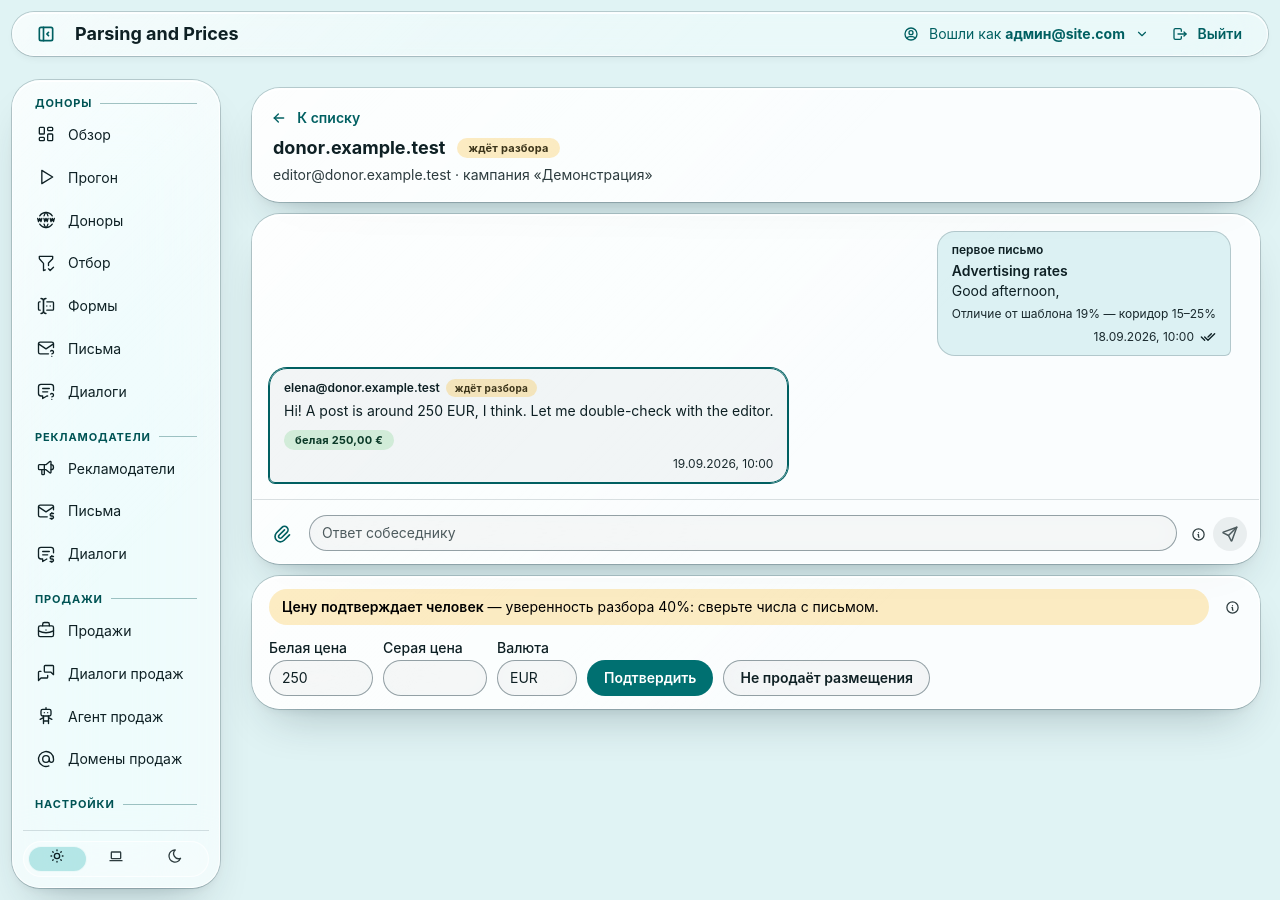
карточка переписки › подтверждение без цены говорит, что в карточку ничего не пошло
Expected: the heading "donor.example.test" is shown, top-left (273, 135), bottom-right (445, 161)
Clear the field labelled "Белая цена". click: (321, 678)
box: top-left (269, 660), bottom-right (373, 696)
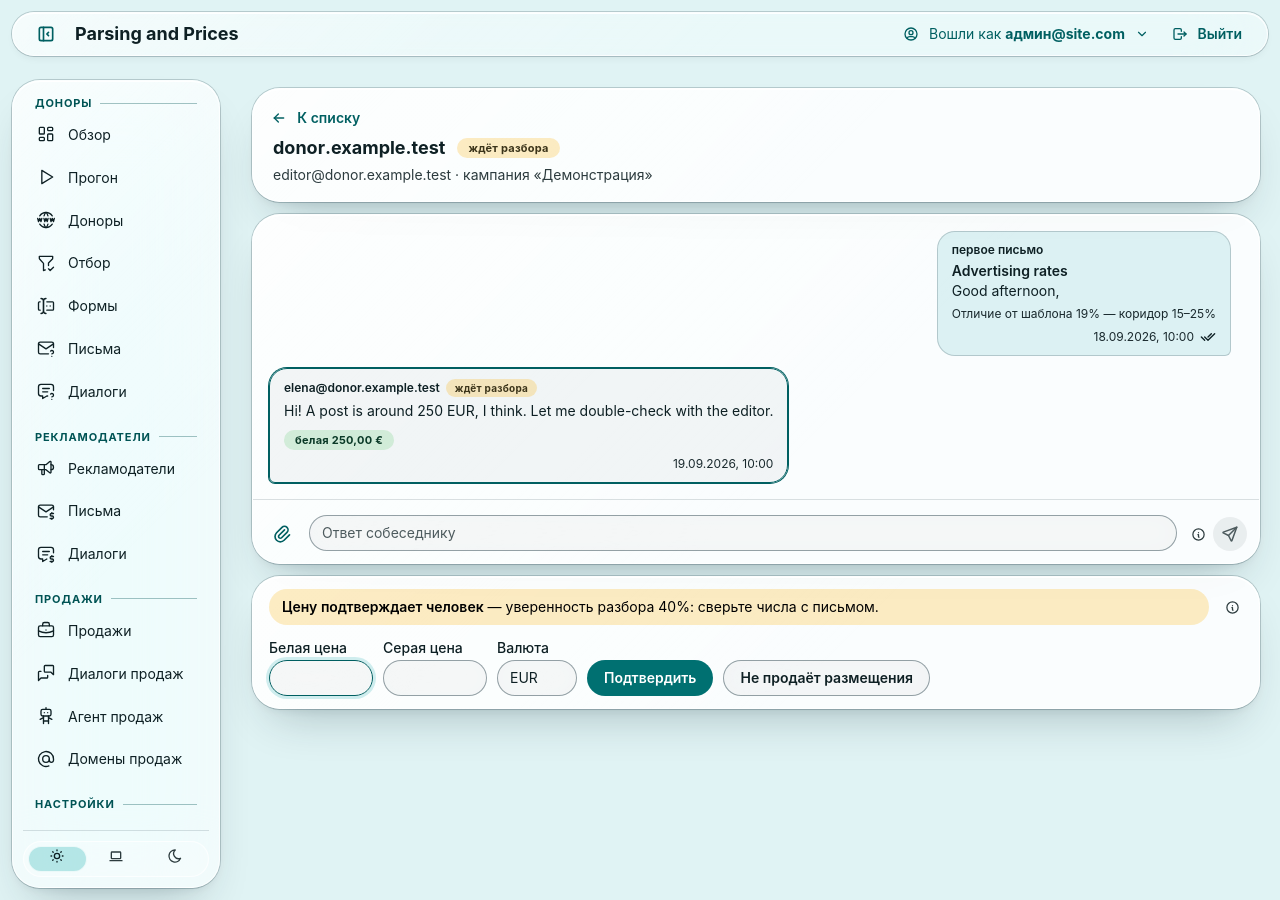
Click the button "Подтвердить". click: (650, 678)
box: top-left (587, 660), bottom-right (714, 696)
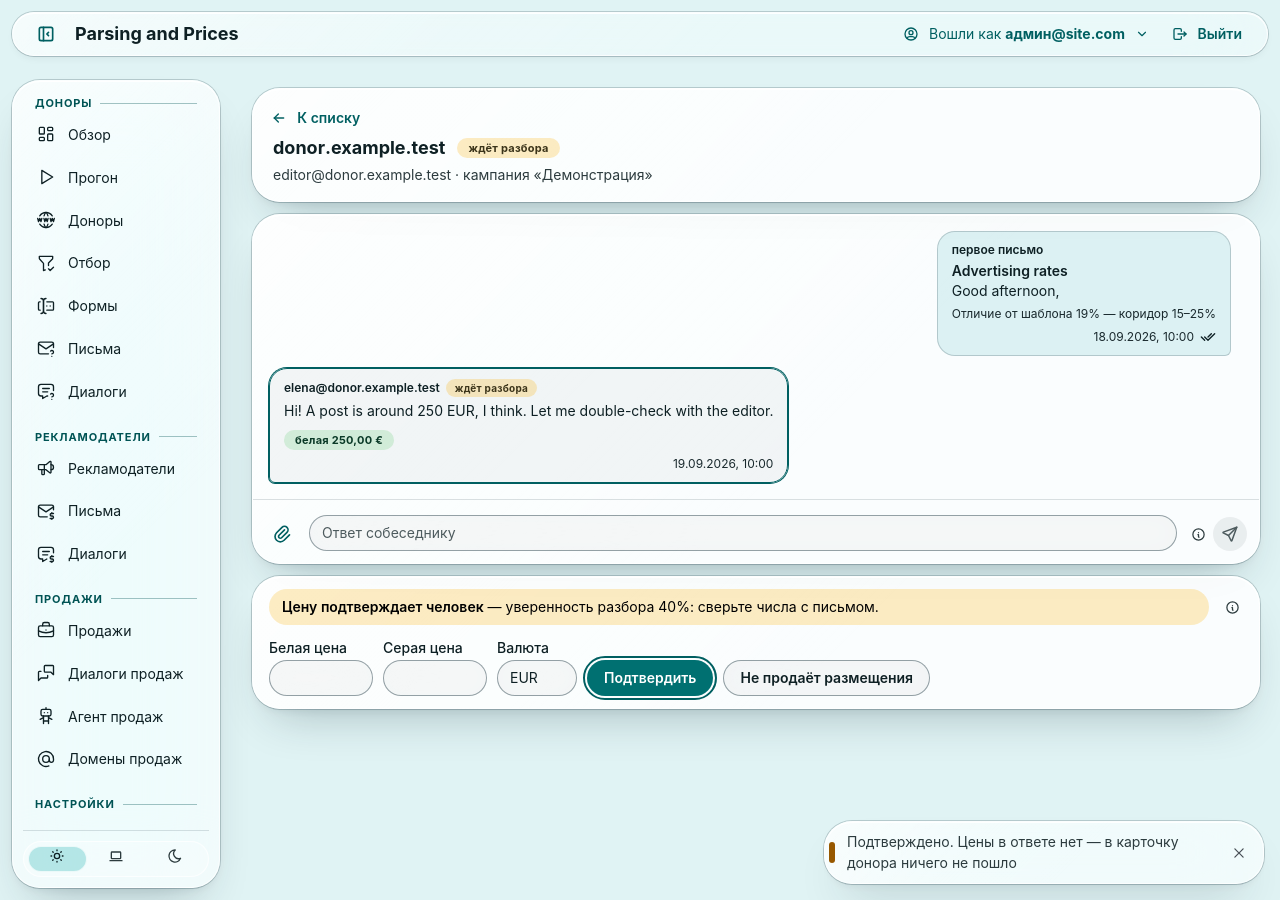
Expected: the text "в карточку донора ничего не пошло" is shown, top-left (847, 833), bottom-right (1178, 871)
